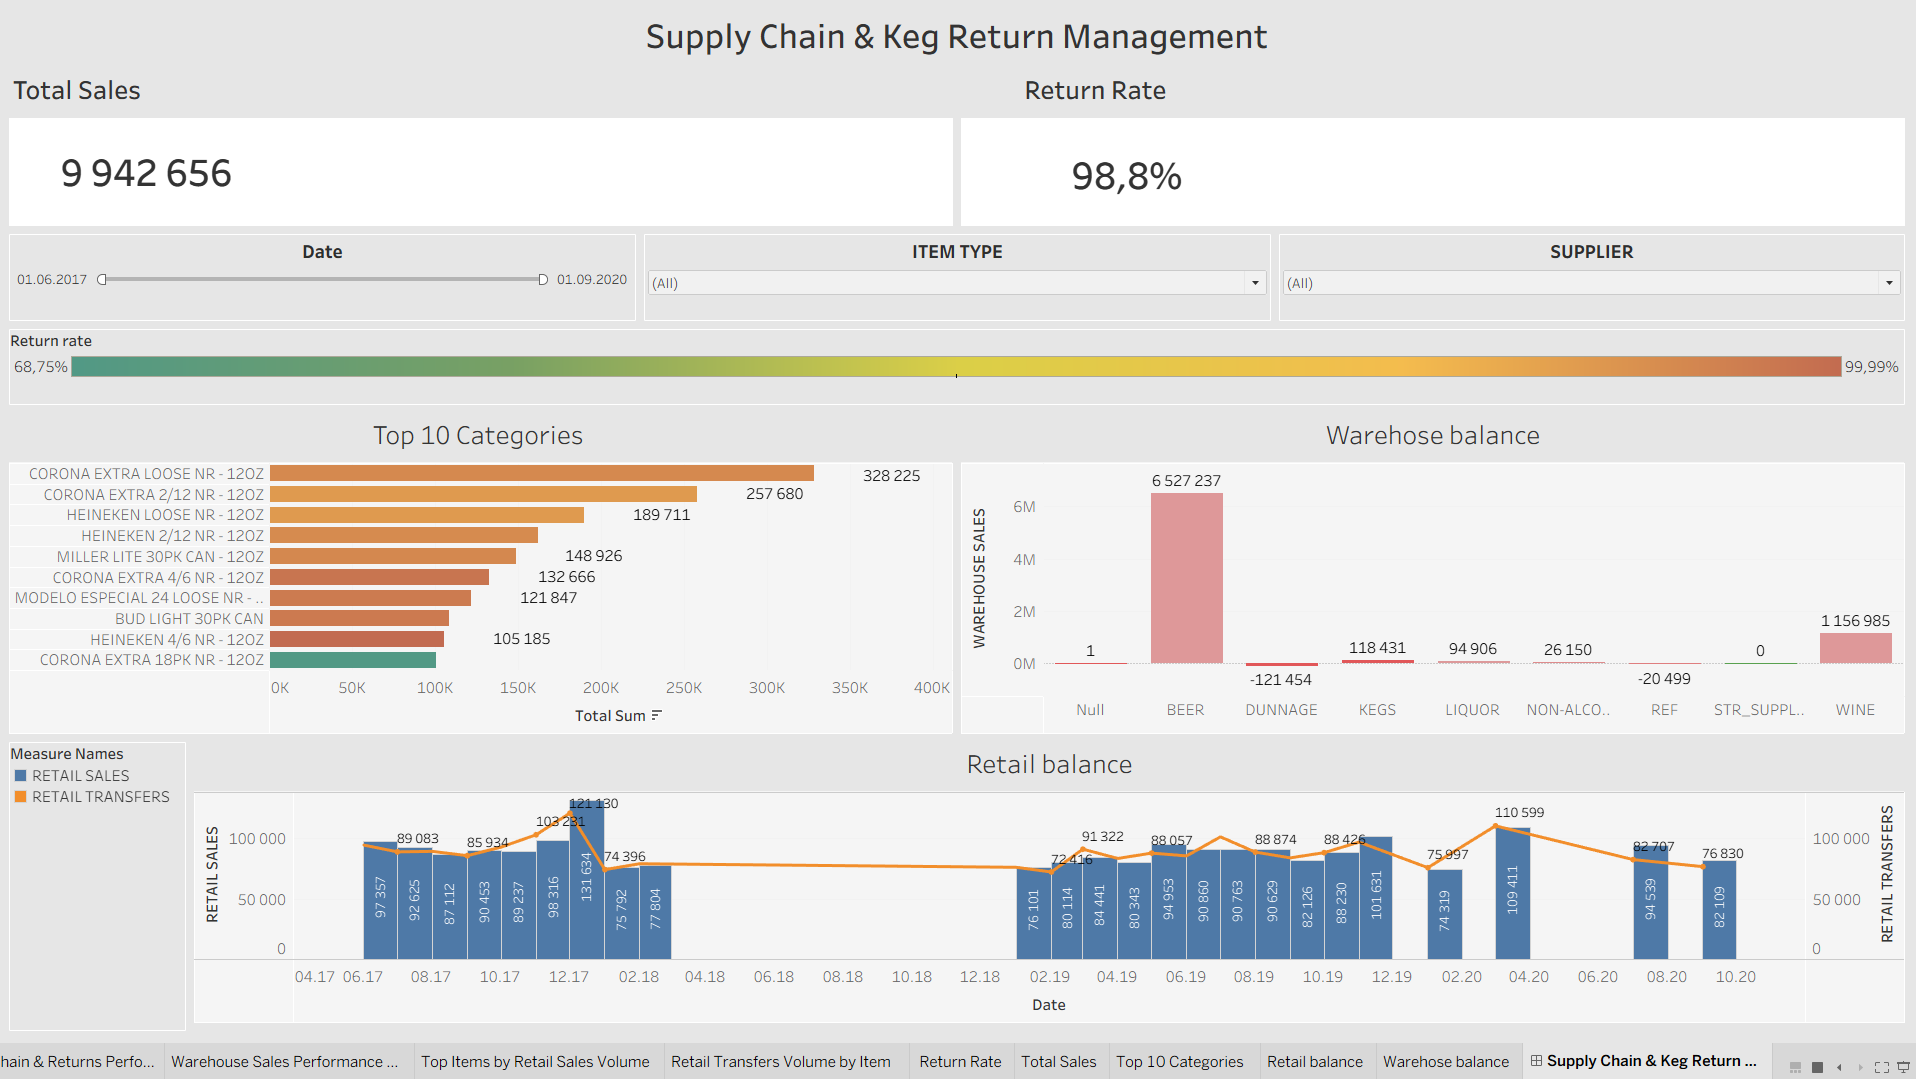

Layout of this report page (visuals, bound fields, positions):
{"tool":"tableau","page":{"name":"Supply Chain & Keg Return Management","canvas":[1000,1000],"units":"permille","ordinal":0},"visuals":[{"type":"title","box":[4.8,9.3,990.3,53.4]},{"type":"worksheet","title":"Total Sales","mark":"Automatic","box":[4.8,62.8,495.5,159.3]},{"type":"worksheet","title":" Return Rate","mark":"Automatic","box":[500.3,62.8,494.9,159.3]},{"type":"filter","title":"Top 10 Categories ","param":"[federated.0uptq1r1pvoviq1bdfple13xo2lu].[none:Date:qk]","box":[4.8,222.1,330.1,90.7]},{"type":"filter","title":"Warehose balance","param":"[federated.0uptq1r1pvoviq1bdfple13xo2lu].[none:ITEM TYPE:nk]","box":[334.9,222.1,330.1,90.7]},{"type":"filter","title":"Retail balance","param":"[federated.0uptq1r1pvoviq1bdfple13xo2lu].[none:SUPPLIER:nk]","box":[665.1,222.1,330.1,90.7]},{"type":"legend","title":"Top 10 Categories ","param":"[federated.0uptq1r1pvoviq1bdfple13xo2lu].[usr:Calculation_0421947209854976:qk]","box":[4.8,312.8,990.3,80.2]},{"type":"worksheet","title":"Top 10 Categories ","mark":"Bar","rows":["ITEM DESCRIPTION"],"cols":["SUM Supplier war (copy)_0421947210272769"],"box":[4.8,393,495.5,314]},{"type":"worksheet","title":"Warehose balance","mark":"Bar","rows":["WAREHOUSE SALES"],"cols":["ITEM TYPE"],"box":[500.3,393,494.9,314]},{"type":"legend","title":"Retail balance","param":"[federated.0uptq1r1pvoviq1bdfple13xo2lu].[:Measure Names]","box":[4.8,706.8,96.4,283.9]},{"type":"worksheet","title":"Retail balance","mark":"Bar","rows":["RETAIL SALES","RETAIL TRANSFERS"],"cols":["Date"],"box":[101.2,706.8,894,283.9]}]}

Visuals, with their boxes on the dashboard's canvas, which has no fixed pixel size, in thousandths of its width and height (x1, y1, x2, y2). These are canvas units, not pixel positions in the 1916x1079 screenshot, which may show the page scaled, cropped or inside an application window:
title: [5,9,995,63]
"Total Sales" worksheet: [5,63,500,222]
" Return Rate" worksheet: [500,63,995,222]
"Top 10 Categories " filter: [5,222,335,313]
"Warehose balance" filter: [335,222,665,313]
"Retail balance" filter: [665,222,995,313]
"Top 10 Categories " legend: [5,313,995,393]
"Top 10 Categories " worksheet (Bar marks): [5,393,500,707]
"Warehose balance" worksheet (Bar marks): [500,393,995,707]
"Retail balance" legend: [5,707,101,991]
"Retail balance" worksheet (Bar marks): [101,707,995,991]
